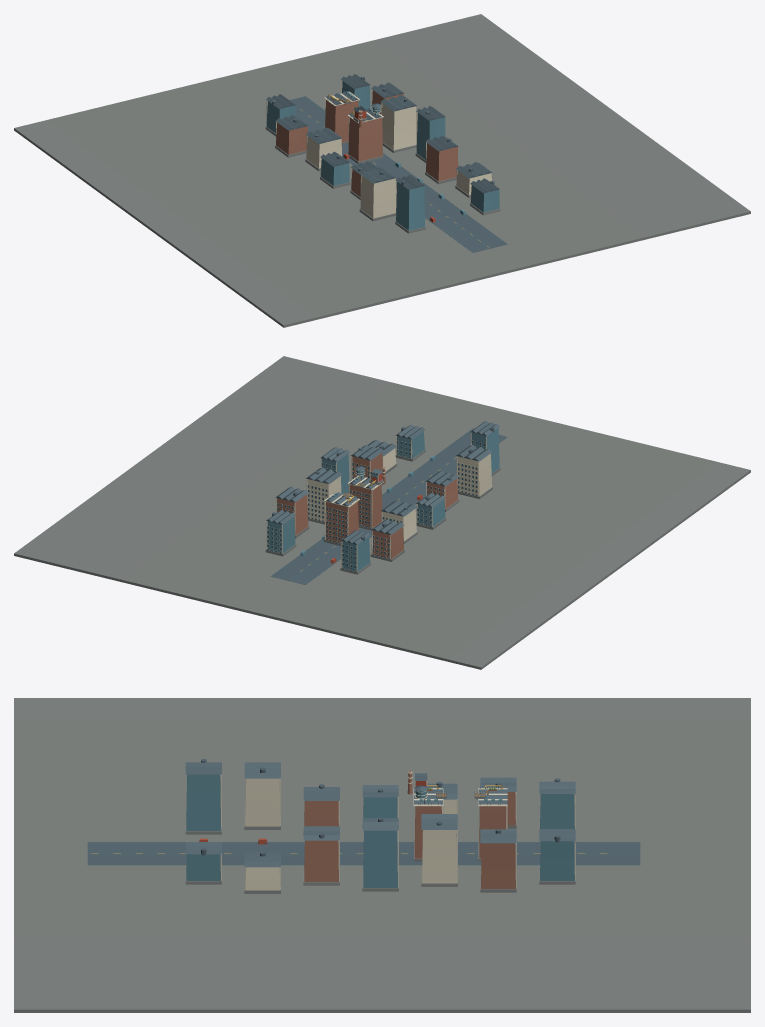
The model's file is rooftops-MJTdOZ0d.glb.
3 views of the same model, one above another, from view 1: azimuth 30°, elevation 25°; view 2: azimuth 150°, elevation 25°; view 3: azimuth 270°, elevation 25° (orthographic). The views are drawn at different scales.
Parts seen in each view (by area): view 1: Rebuilt_rooftops_Paint_stone, Rebuilt_rooftops_Paint_steel, Rebuilt_rooftops_Paint_brick, Rebuilt_rooftops_Paint_ivory, Rebuilt_rooftops_Paint_blue; view 2: Rebuilt_rooftops_Paint_stone, Rebuilt_rooftops_Paint_steel, Rebuilt_rooftops_Paint_ivory, Rebuilt_rooftops_Paint_brick, Rebuilt_rooftops_Paint_blue, Rebuilt_rooftops_Paint_glass; view 3: Rebuilt_rooftops_Paint_stone, Rebuilt_rooftops_Paint_steel, Rebuilt_rooftops_Paint_blue, Rebuilt_rooftops_Paint_ivory, Rebuilt_rooftops_Paint_brick.
Boxes of the visible parts, <box> form: Rebuilt_rooftops_Paint_stone: <box>14,14,750,327</box>; Rebuilt_rooftops_Paint_steel: <box>266,74,507,252</box>; Rebuilt_rooftops_Paint_brick: <box>276,90,458,196</box>; Rebuilt_rooftops_Paint_ivory: <box>266,80,491,218</box>; Rebuilt_rooftops_Paint_blue: <box>266,81,499,230</box>; Rebuilt_rooftops_Paint_stone: <box>14,356,750,669</box>; Rebuilt_rooftops_Paint_steel: <box>266,421,507,584</box>; Rebuilt_rooftops_Paint_ivory: <box>266,433,492,571</box>; Rebuilt_rooftops_Paint_brick: <box>276,453,458,558</box>; Rebuilt_rooftops_Paint_blue: <box>267,428,499,571</box>; Rebuilt_rooftops_Paint_glass: <box>267,440,485,571</box>; Rebuilt_rooftops_Paint_stone: <box>14,698,750,1012</box>; Rebuilt_rooftops_Paint_steel: <box>87,759,640,867</box>; Rebuilt_rooftops_Paint_blue: <box>186,774,574,887</box>; Rebuilt_rooftops_Paint_ivory: <box>220,771,575,890</box>; Rebuilt_rooftops_Paint_brick: <box>304,771,515,888</box>.
Size of the model in its own units: 400 by 46.5 by 400.
